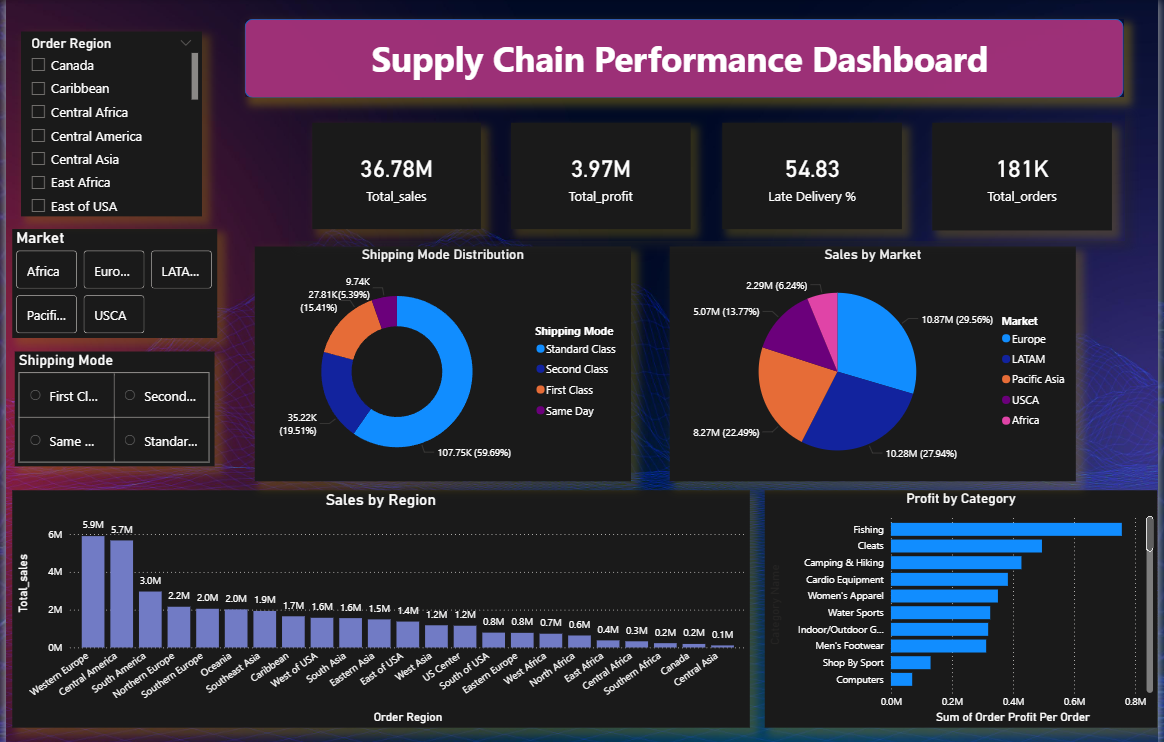

The page's visual inventory and layout, read from the dashboard file:
{"tool":"powerbi","page":{"name":"Overview","canvas":[1420,920],"ordinal":0},"visuals":[{"type":"shape","box":[294.4,24.7,1083.7,97.1],"z":0,"group":"g2"},{"type":"shape","box":[353,137.2,1026.7,161.9],"z":0,"group":"g1"},{"type":"clusteredColumnChart","title":"Sales by Region","fields":{"Category":["cleaned_supply_chain_data.Order Region"],"Y":["cleaned_supply_chain_data.Total_sales"]},"box":[7.7,605.8,909.5,292.9],"z":0},{"type":"card","fields":{"Values":["cleaned_supply_chain_data.Total_sales"]},"box":[377.7,152.6,208.1,131],"z":1000,"group":"g1"},{"type":"barChart","title":"Profit by Category","fields":{"Category":["cleaned_supply_chain_data.Category Name"],"Y":["Sum(cleaned_supply_chain_data.Order Profit Per Order)"]},"box":[935.7,605.8,484.1,292.9],"z":1000},{"type":"card","fields":{"Values":["cleaned_supply_chain_data.Late Delivery %"]},"box":[882.8,152.6,222,131],"z":2000,"group":"g1"},{"type":"pieChart","title":"Sales by Market","fields":{"Category":["cleaned_supply_chain_data.Market"],"Y":["cleaned_supply_chain_data.Total_sales"]},"box":[818.6,305.2,501,289.8],"z":2000},{"type":"card","fields":{"Values":["cleaned_supply_chain_data.Total_profit"]},"box":[623.3,152.6,222,131],"z":3000,"group":"g1"},{"type":"donutChart","title":"Shipping Mode Distribution","fields":{"Category":["cleaned_supply_chain_data.Shipping Mode"],"Y":["CountNonNull(cleaned_supply_chain_data.Order Id)"]},"box":[306.8,305.2,464,289.8],"z":3000},{"type":"card","fields":{"Values":["cleaned_supply_chain_data.Total_orders"]},"box":[1142.3,152.6,222,132.6],"z":4000,"group":"g1"},{"type":"advancedSlicerVisual","fields":{"Values":["cleaned_supply_chain_data.Market"]},"box":[7.7,283.6,252.8,134.1],"z":4000},{"type":"slicer","fields":{"Values":["cleaned_supply_chain_data.Order Region"]},"box":[18.5,40.1,223.5,228.2],"z":5000},{"type":"advancedSlicerVisual","fields":{"Values":["cleaned_supply_chain_data.Shipping Mode"]},"box":[10.8,434.7,246.7,141.8],"z":6000},{"type":"group","id":"g1","title":"Group 1","box":[353,137.2,1026.7,161.9],"z":7000},{"type":"group","id":"g2","title":"Group 2","box":[294.4,24.7,1083.7,97.1],"z":8000},{"type":"textbox","box":[306.7,24.7,1048.3,86.3],"z":8000,"group":"g2"}]}

Visuals, with their boxes in screenshot pixels (x1, y1, x2, y2), scaled from the page's 1420x920 canvas onto the 1164x742 screenshot:
shape: x1=241 y1=20 x2=1130 y2=98
shape: x1=289 y1=111 x2=1131 y2=241
"Sales by Region" clusteredColumnChart: x1=6 y1=489 x2=752 y2=725
card - cleaned_supply_chain_data.Total_sales: x1=310 y1=123 x2=480 y2=229
"Profit by Category" barChart: x1=767 y1=489 x2=1163 y2=725
card - cleaned_supply_chain_data.Late Delivery %: x1=724 y1=123 x2=906 y2=229
"Sales by Market" pieChart: x1=671 y1=246 x2=1082 y2=480
card - cleaned_supply_chain_data.Total_profit: x1=511 y1=123 x2=693 y2=229
"Shipping Mode Distribution" donutChart: x1=251 y1=246 x2=632 y2=480
card - cleaned_supply_chain_data.Total_orders: x1=936 y1=123 x2=1118 y2=230
advancedSlicerVisual - cleaned_supply_chain_data.Market: x1=6 y1=229 x2=214 y2=337
slicer - cleaned_supply_chain_data.Order Region: x1=15 y1=32 x2=198 y2=216
advancedSlicerVisual - cleaned_supply_chain_data.Shipping Mode: x1=9 y1=351 x2=211 y2=465
"Group 1" group: x1=289 y1=111 x2=1131 y2=241
"Group 2" group: x1=241 y1=20 x2=1130 y2=98
textbox: x1=251 y1=20 x2=1111 y2=90
